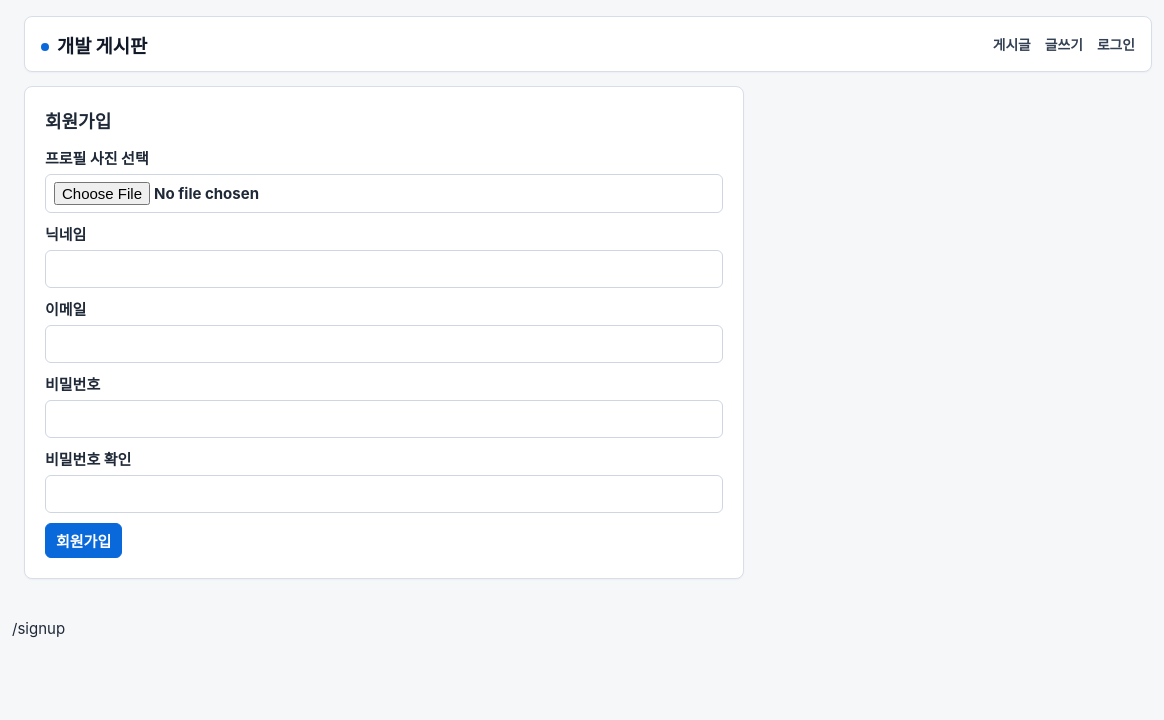
Scenario: 인증 폼 › 회원가입 유효성 메시지를 보여준다
The width and height of the screenshot is (1164, 720).
Step 1. Click the button "회원가입" → {"x": 84, "y": 540}, box [45,523,122,558]
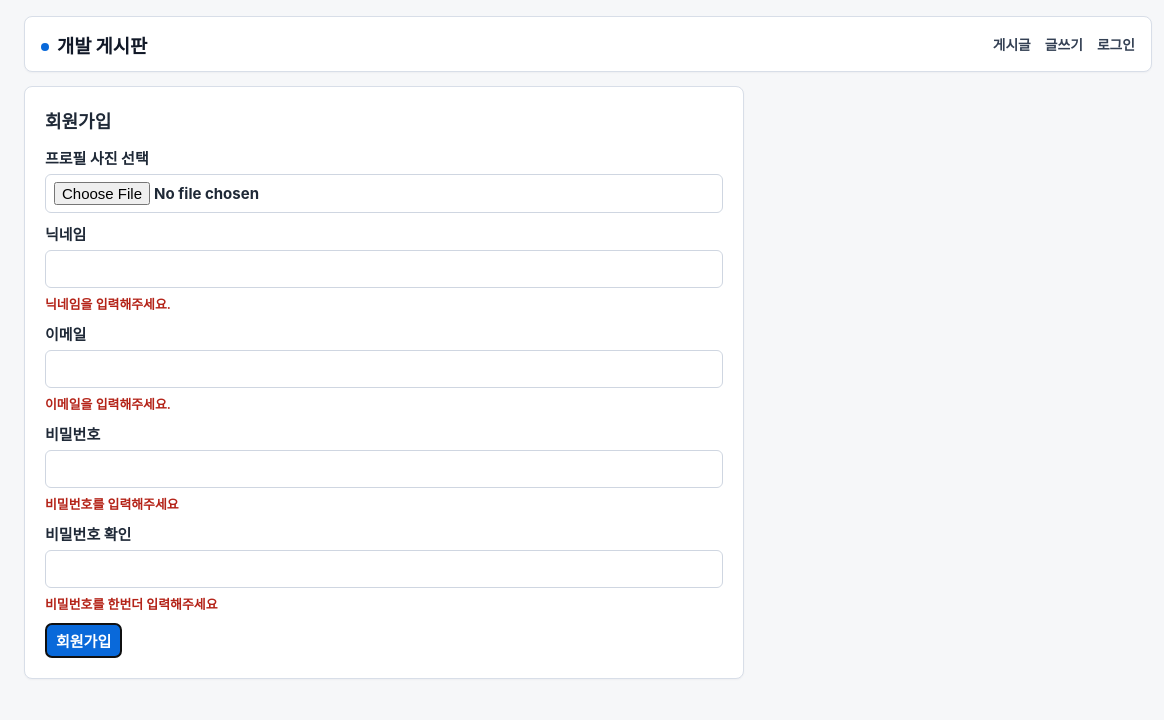
Now the text "닉네임을 입력해주세요." is shown, box [45,297,171,312]
Now the text "이메일을 입력해주세요." is shown, box [45,397,171,412]
Now the text "비밀번호를 입력해주세요" is shown, box [45,497,179,512]
